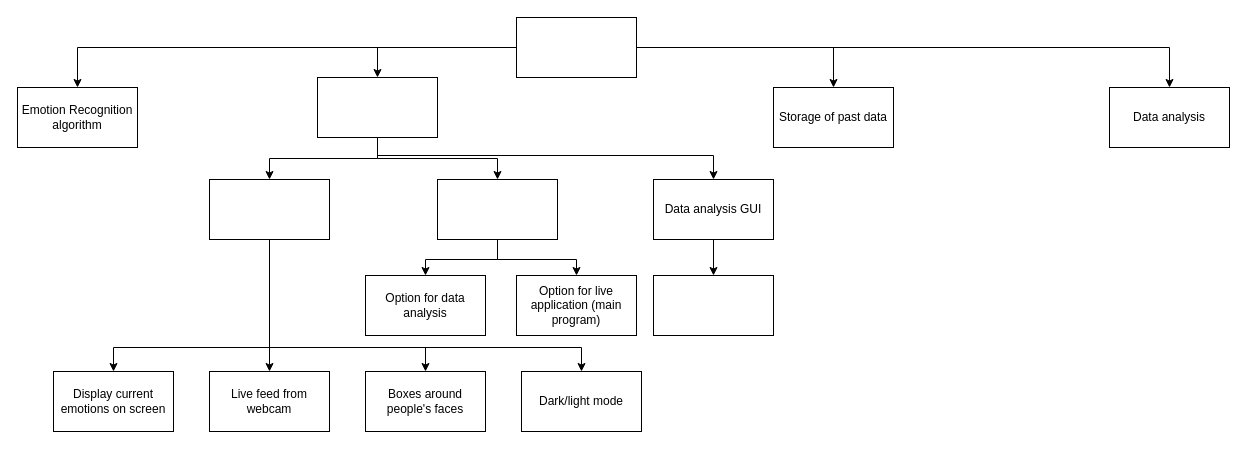
The diagram is 1247 pixels wide and 449 high, and some of its shapes have lost their labels. Each missing label, with the box of its shape:
Display graphs: (652, 274, 774, 336)
Emotion Recognition system: (516, 16, 636, 78)
Live application: (208, 178, 330, 240)
Menu: (436, 178, 558, 240)
User interface: (316, 76, 438, 138)
